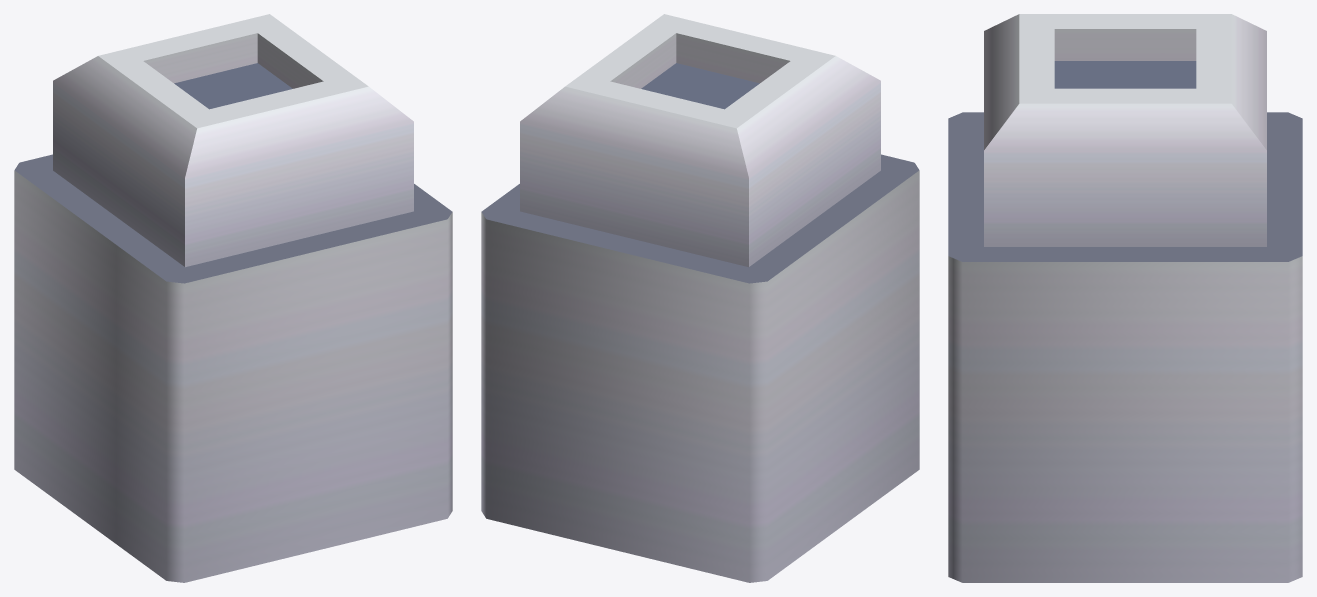
The model's file is low-detail-building-n.glb.
3 renders of one model, left to right at view 1: azimuth 30°, elevation 25°; view 2: azimuth 150°, elevation 25°; view 3: azimuth 270°, elevation 25°, orthographic. The views are drawn at different scales.
Parts seen in each view (by area): view 1: low-detail-building-n; view 2: low-detail-building-n; view 3: low-detail-building-n.
Part boxes in pixels (x1,y1,x2,y2): low-detail-building-n: (14,14,452,582); low-detail-building-n: (481,14,919,582); low-detail-building-n: (948,14,1302,582).
Bounding box in the file's own units: 0.5 × 0.7 × 0.5.
1 material, 1 textured.
